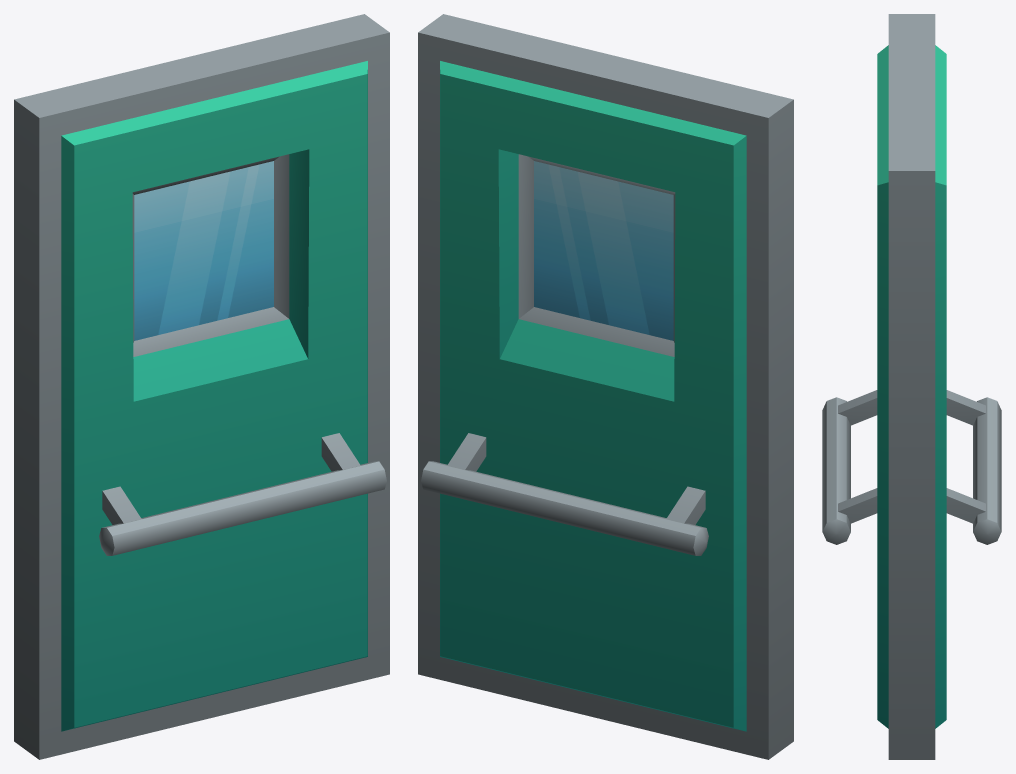
The model's file is door_A.glb.
3 views of the same model, side by side, from view 1: azimuth 30°, elevation 25°; view 2: azimuth 150°, elevation 25°; view 3: azimuth 270°, elevation 25° (orthographic). The views are drawn at different scales.
Visible parts, largest first — view 1: door_A_Cube.260; view 2: door_A_Cube.260; view 3: door_A_Cube.260.
Boxes of the visible parts, x1=… form: door_A_Cube.260: x1=14, y1=14, x2=389, y2=759; door_A_Cube.260: x1=418, y1=14, x2=793, y2=759; door_A_Cube.260: x1=822, y1=14, x2=1001, y2=759.
Size of the model in its own units: 1.6 by 2.8 by 0.7714.
Materials: 1 (1 with a texture image).
